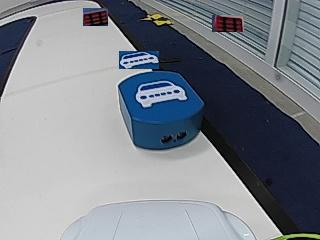safety: (134, 80, 186, 107)
